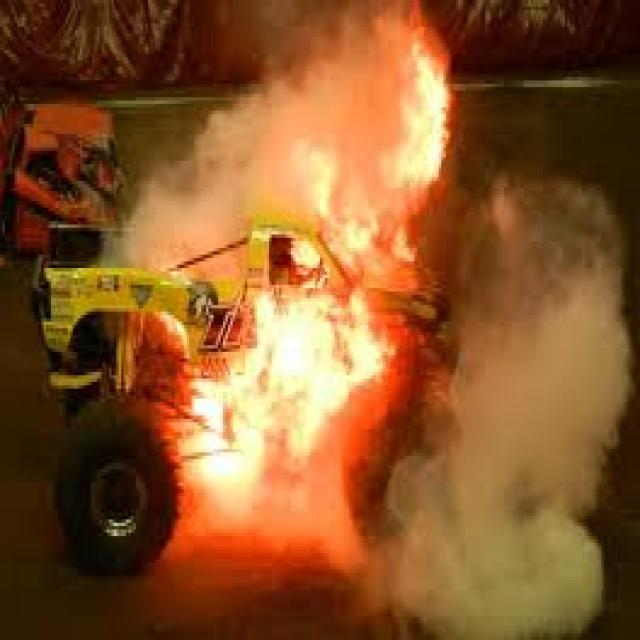Fire: (188, 300, 378, 494), (384, 62, 450, 183)
Smoke: (382, 184, 634, 640), (128, 3, 380, 235)
